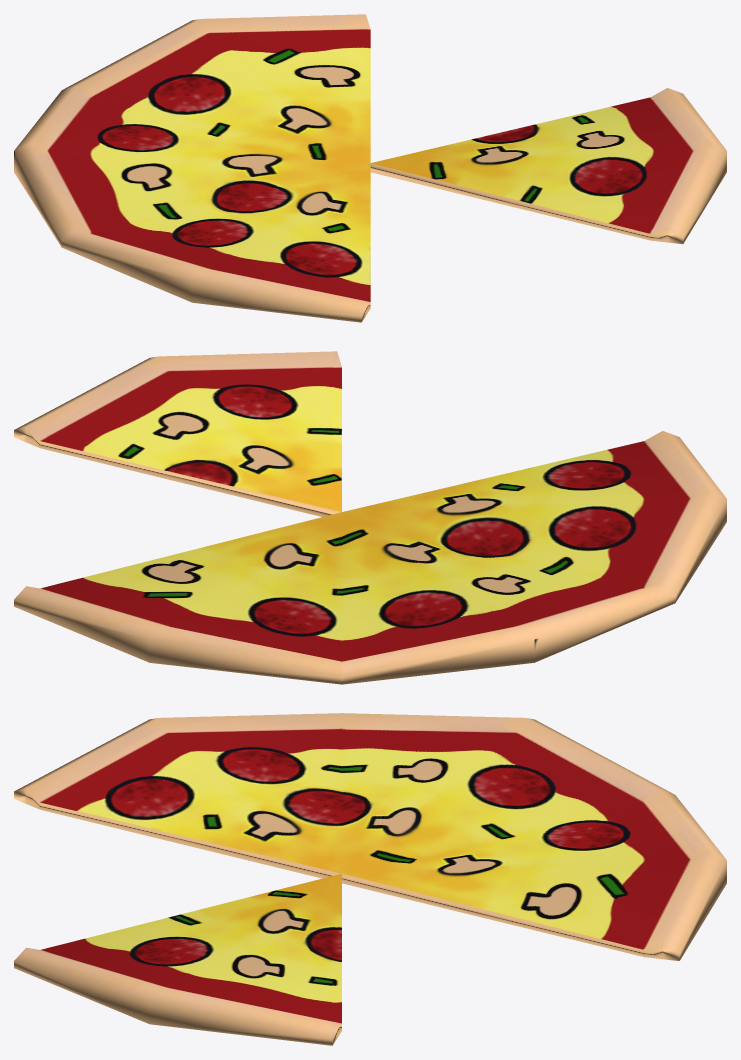
File: pizza.fbx
3 renders of one model, top to bottom at view 1: azimuth 30°, elevation 25°; view 2: azimuth 150°, elevation 25°; view 3: azimuth 270°, elevation 25°, orthographic. The views are drawn at different scales.
Parts seen in each view (by area): view 1: pizza; view 2: pizza; view 3: pizza.
Boxes of the visible parts, x1,y1,x2,y2 form: pizza: [14, 14, 726, 322]; pizza: [14, 351, 726, 684]; pizza: [14, 713, 726, 1045].
Bounding box in the file's own units: 62.08 × 2.79 × 57.53.
